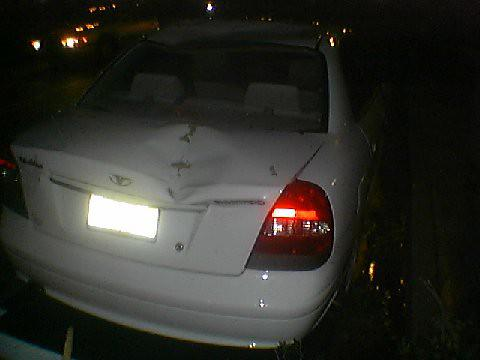rear-bumper-dent: (7, 100, 254, 322)
